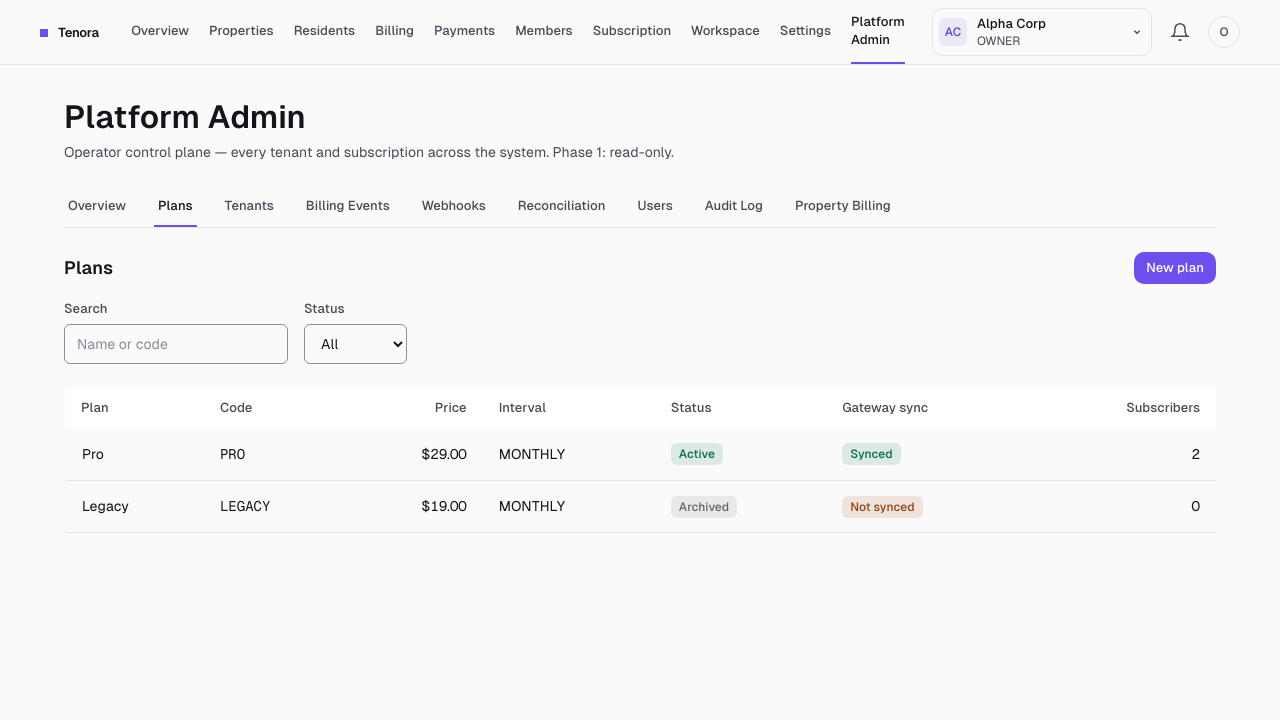
Test: PlansPage — create (Phase 3) › posts the form values and closes on success
Expected: the link "Pro" is shown, [82, 446, 104, 462]
Step 1. Click the button "New plan" → (1175, 268), box [1134, 252, 1216, 284]
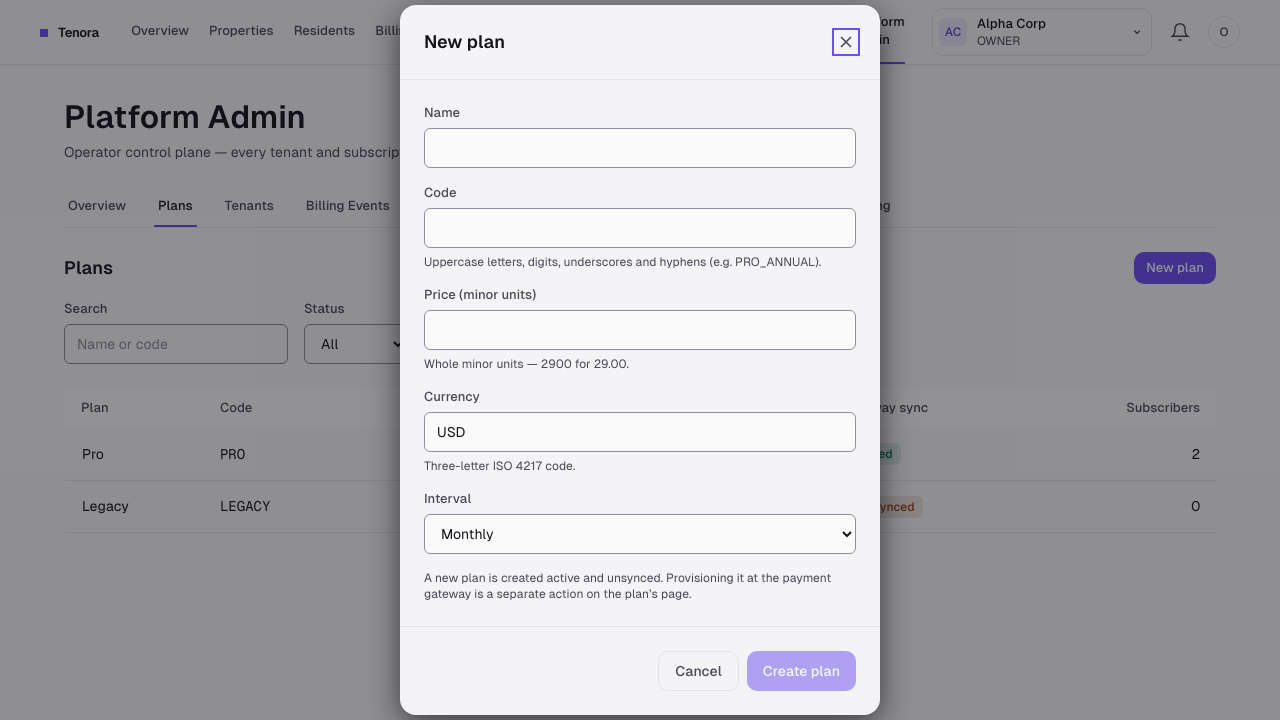
Step 2. Type "Scale" into the field labelled "Name" → (640, 148), box [424, 128, 856, 168]
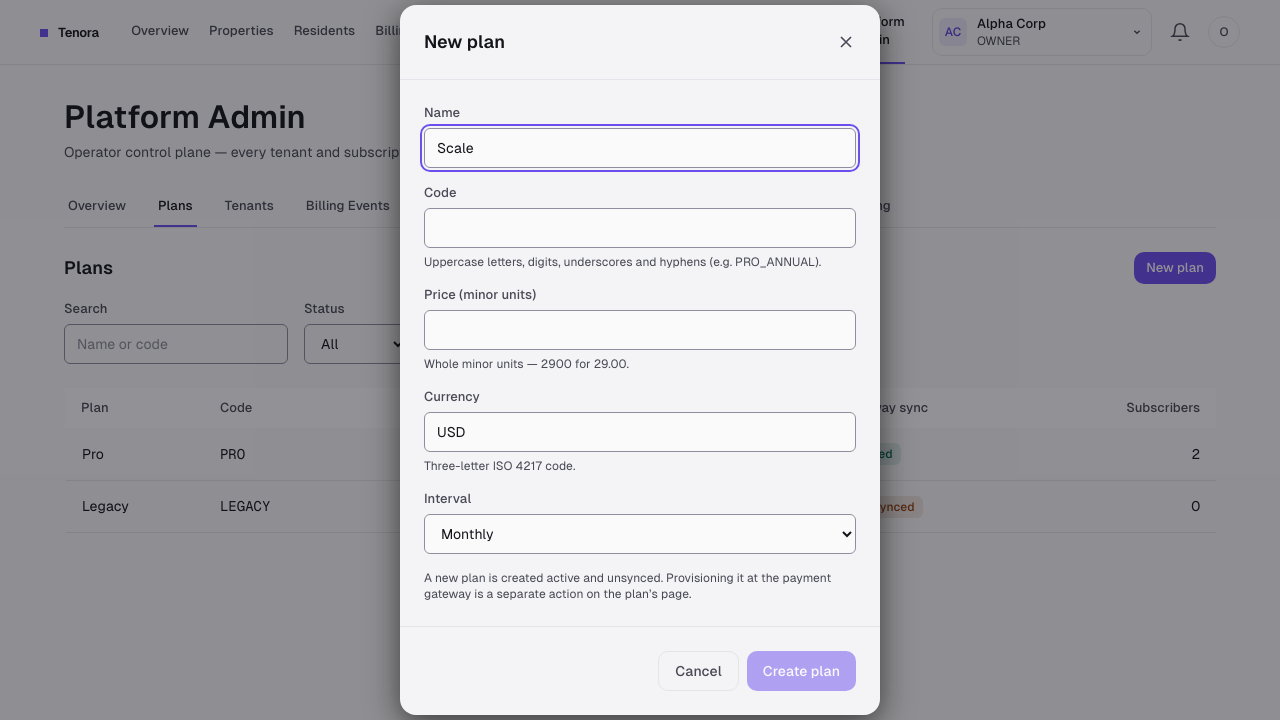
Step 3. Type "SCALE" into the field labelled "Code" → (640, 228), box [424, 208, 856, 248]
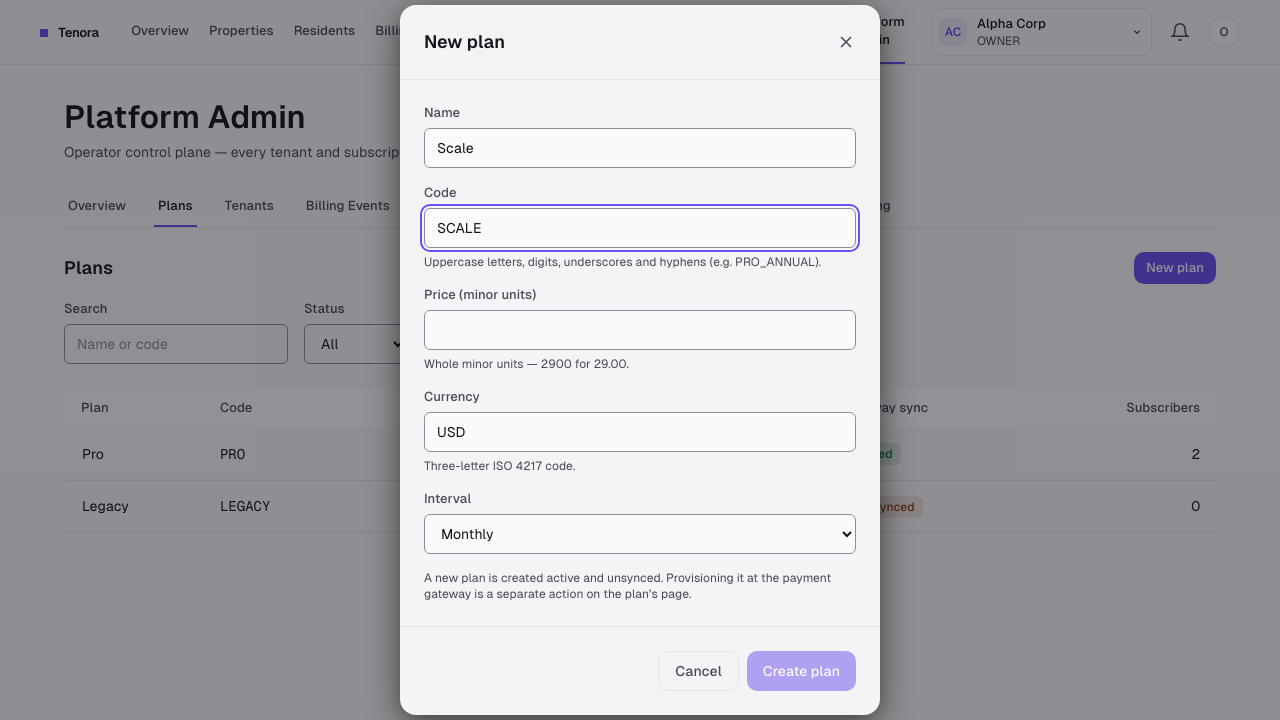
Step 4. Type "19900" into the field labelled "Price (minor units)" → (640, 330), box [424, 310, 856, 350]
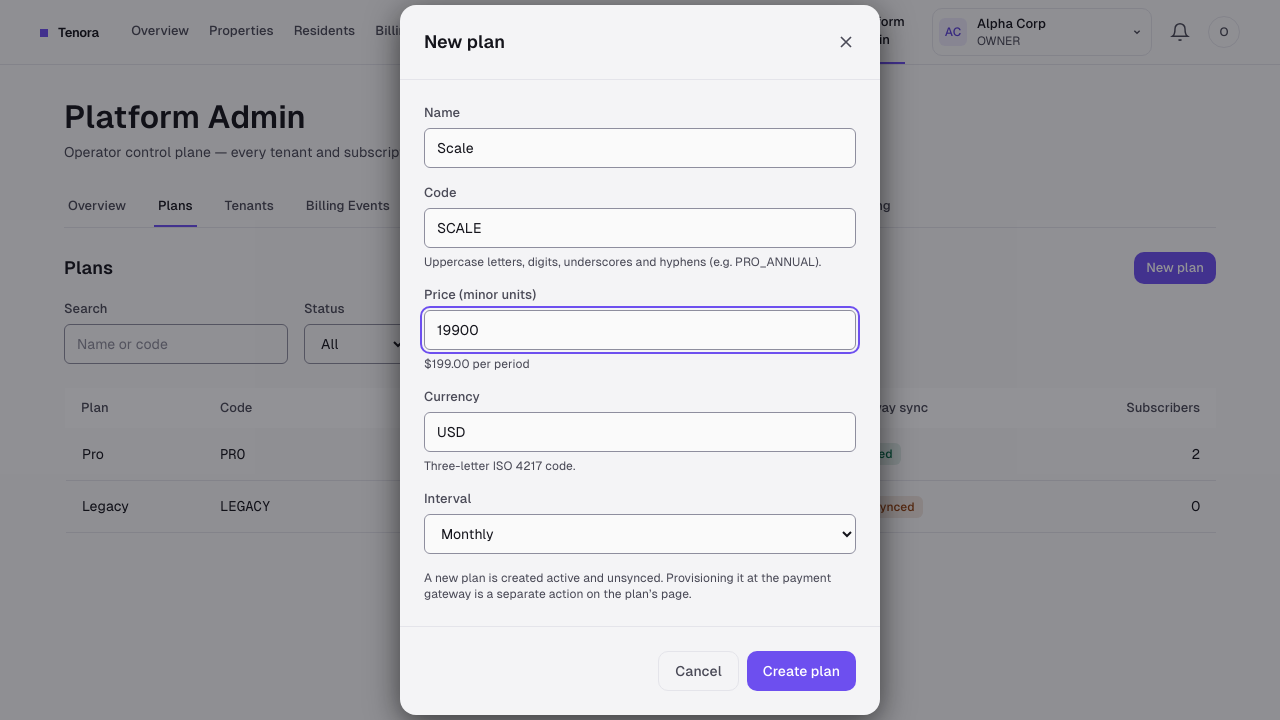
Step 5. Click the button "Create plan" → (801, 671), box [747, 651, 856, 691]
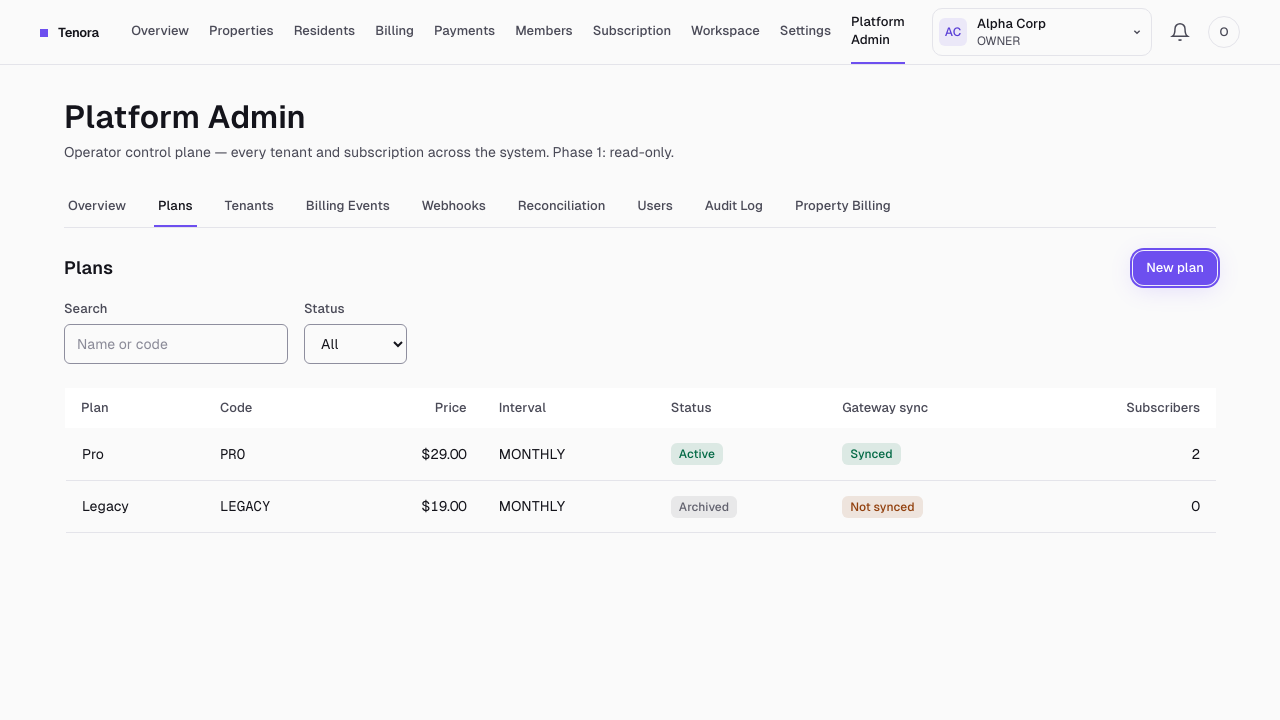
Now the dialog is gone
